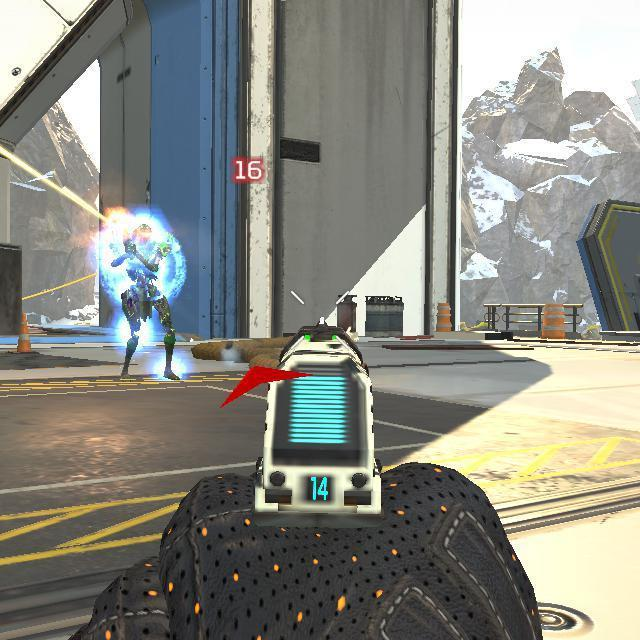avatar: (109, 222, 181, 382)
